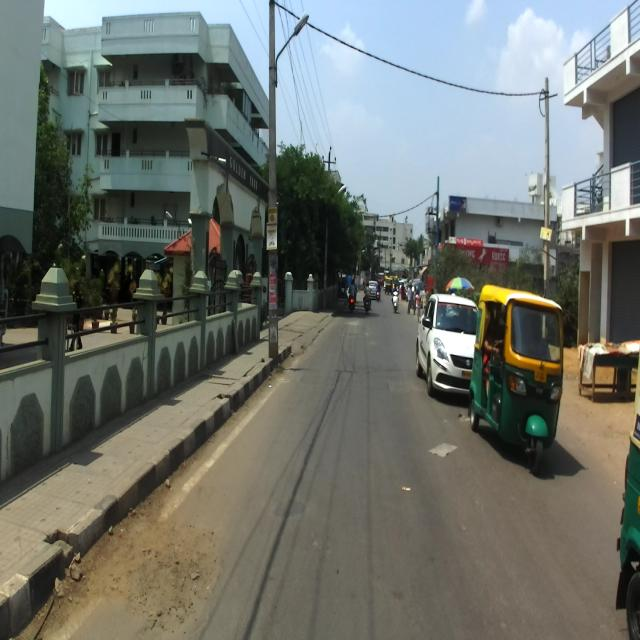auto ahead at: (472, 281, 562, 472)
car ahead at: (417, 291, 476, 391)
electric pole ahead at: (258, 0, 294, 357)
